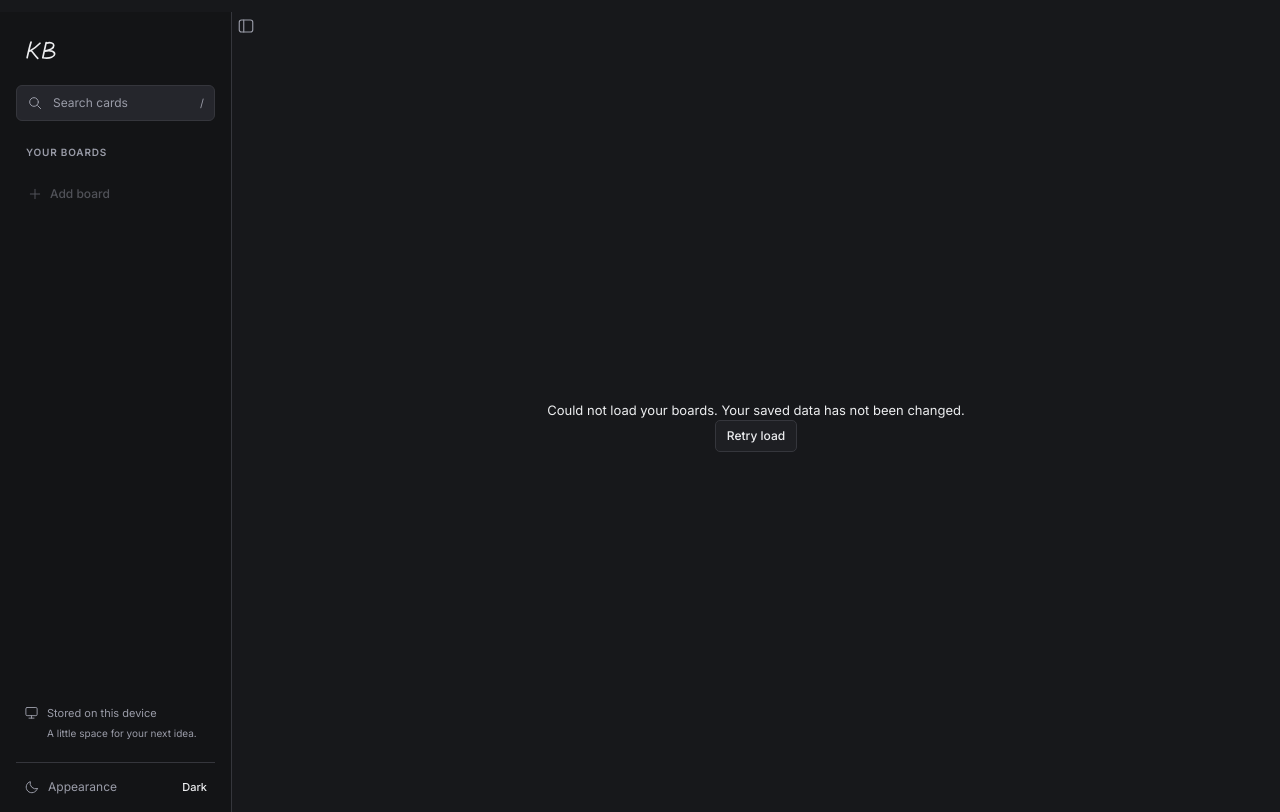
Test case: local boards › keeps corrupt stored data intact and retries loading
The width and height of the screenshot is (1280, 812).
Expected: the message shows "Could not load", [547,402,965,418]
Expected: the button with aria-label "+ Add board" is disabled, [16,178,215,210]
Click the button "Retry load" at point(756, 436), box [715,420,797,452]
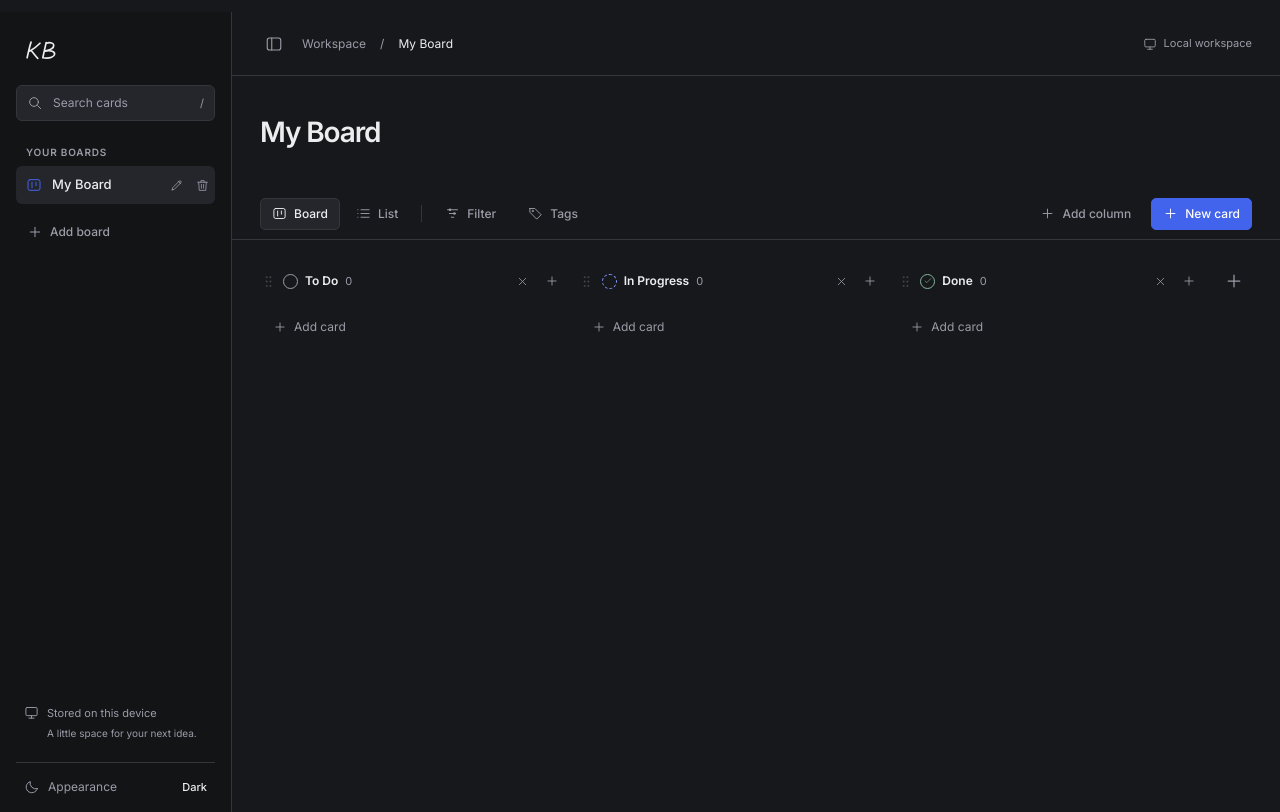
Result: the heading "My Board" is shown at [260,114,380,150]
